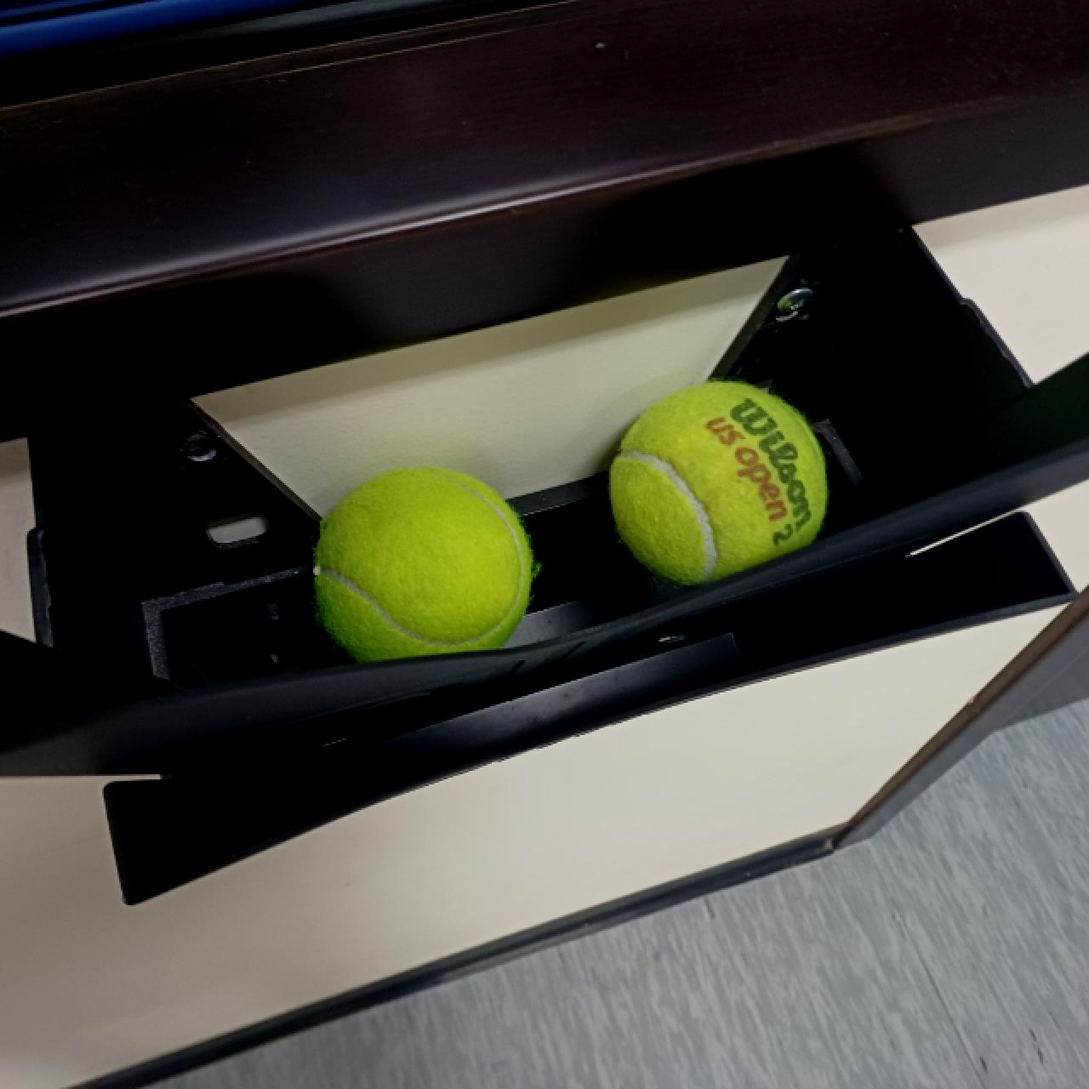tennis-ball: (606, 378, 831, 588), (312, 463, 535, 670)
